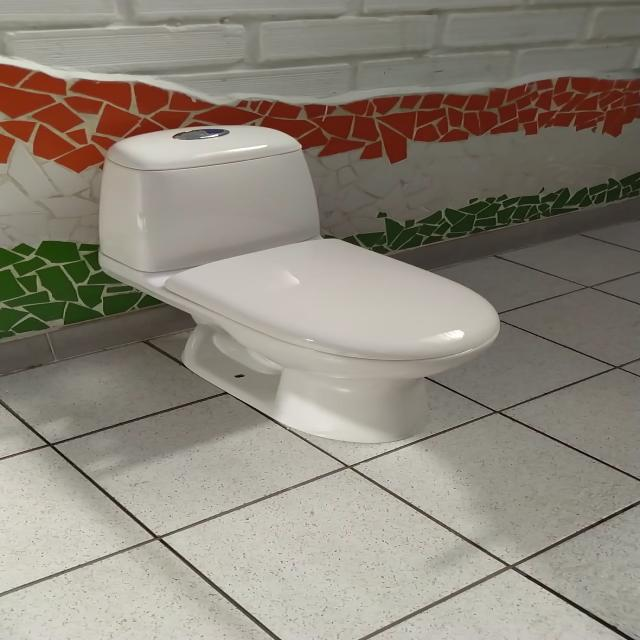toilet: (96, 124, 501, 444)
